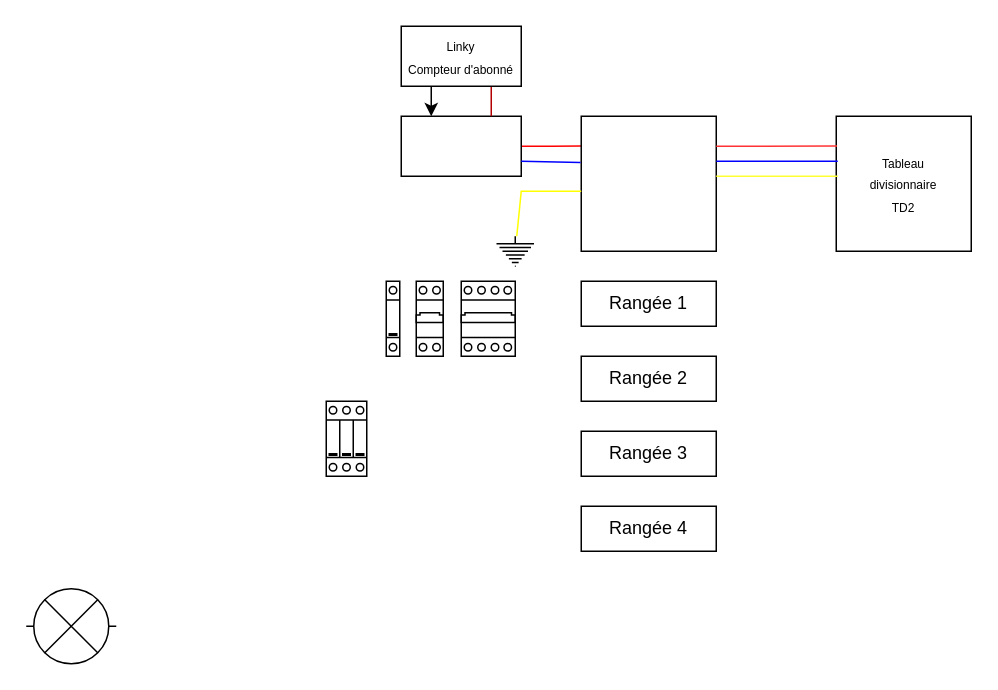
This 998x690 diagram has some shape labels left out. Here are the shapes that lost their labels. From the top down, the box of each, then its label:
(400, 115, 521, 176): Disjoncteur d'abonné
(580, 115, 716, 251): Tableau divisionnaire TD1
